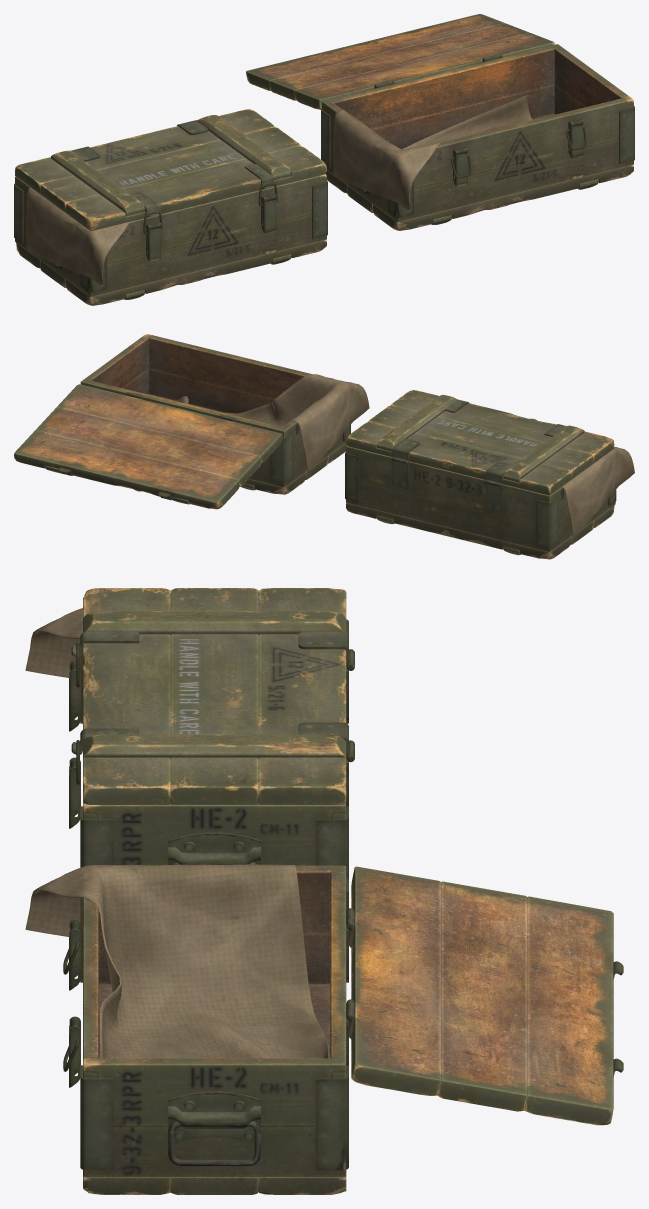
File: old_military_crate.gltf
The picture shows the model from 3 angles, top to bottom: view 1: azimuth 30°, elevation 25°; view 2: azimuth 150°, elevation 25°; view 3: azimuth 270°, elevation 25°; orthographic projection. The views are drawn at different scales.
Parts seen in each view (by area): view 1: old_military_crate_b, old_military_crate_lid_a, old_military_crate_a, old_military_crate_lid_b, old_military_crate_cloth_b, old_military_crate_cloth_a, old_military_crate_latch_a, old_military_crate_latch_b; view 2: old_military_crate_lid_b, old_military_crate_lid_a, old_military_crate_a, old_military_crate_b, old_military_crate_cloth_b, old_military_crate_cloth_a; view 3: old_military_crate_lid_a, old_military_crate_lid_b, old_military_crate_b, old_military_crate_cloth_b, old_military_crate_a, old_military_crate_cloth_a, old_military_crate_latch_b, old_military_crate_latch_a.
Part boxes in pixels (x1,y1,x2,y2): old_military_crate_b: (321,44,634,230); old_military_crate_lid_a: (15,109,326,230); old_military_crate_a: (14,174,327,305); old_military_crate_lid_b: (246,14,555,109); old_military_crate_cloth_b: (333,95,532,209); old_military_crate_cloth_a: (26,187,129,284); old_military_crate_latch_a: (146,194,276,261); old_military_crate_latch_b: (453,119,583,186); old_military_crate_lid_b: (14,384,282,509); old_military_crate_lid_a: (346,390,614,495); old_military_crate_a: (345,446,616,559); old_military_crate_b: (80,334,350,494); old_military_crate_cloth_b: (174,374,369,470); old_military_crate_cloth_a: (562,447,634,535); old_military_crate_lid_a: (71,588,354,804); old_military_crate_lid_b: (346,866,623,1125); old_military_crate_b: (80,865,354,1194); old_military_crate_cloth_b: (25,864,329,1058); old_military_crate_a: (80,619,354,879); old_military_crate_cloth_a: (25,608,82,677); old_military_crate_latch_b: (69,919,80,1087); old_military_crate_latch_a: (69,660,80,828).
Bounding box in the file's own units: 1.82 × 0.3009 × 0.9757.
1 material, 1 textured.
